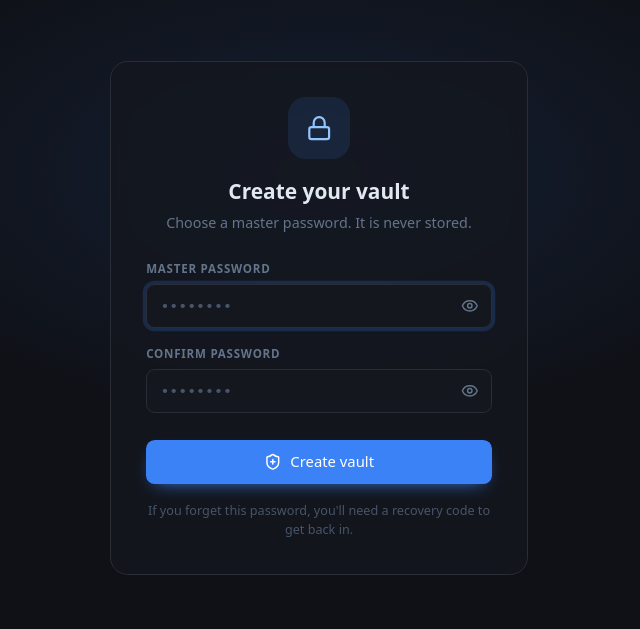
Test: UnlockScreen first-run › shows the create-vault form and validates password length
The width and height of the screenshot is (640, 629).
Expected: the heading "Create your vault" is shown, [228,176,410,208]
Type "short" into the 1st password field with placeholder "••••••••". click: [319, 306]
box: [146,284,492,328]
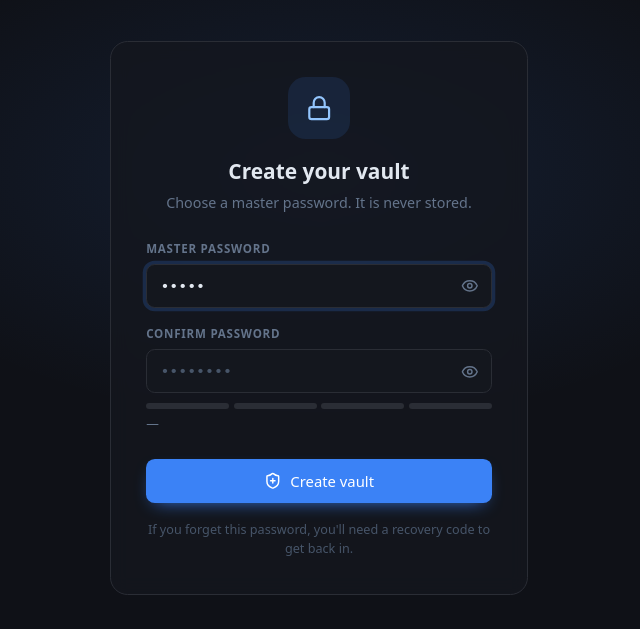
Type "short" into the password field with placeholder "••••••••". click: [319, 372]
box: [146,350,492,394]
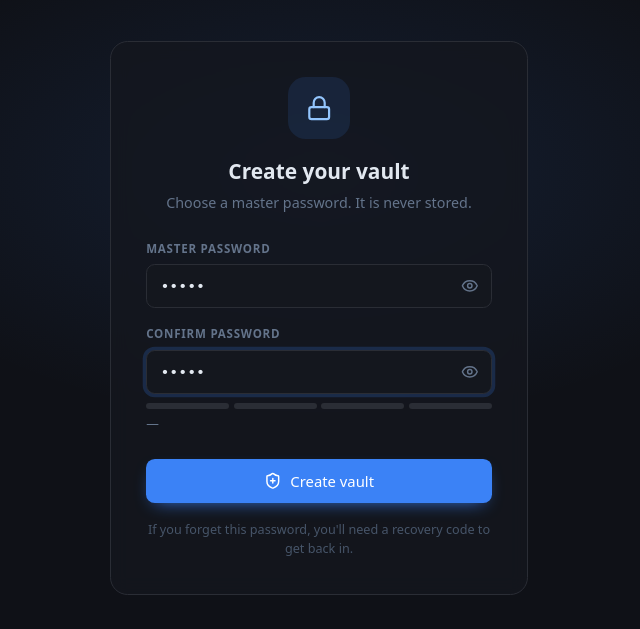
Click the button "Create vault". click: [319, 481]
box: [146,459,492,503]
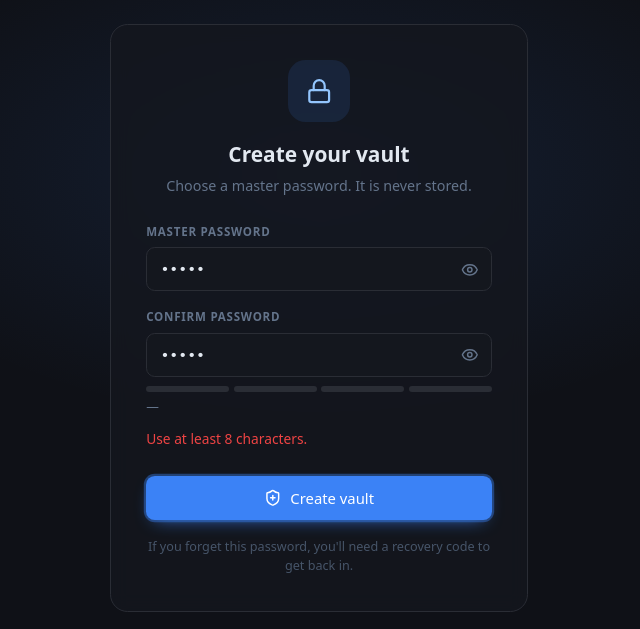
Expected: the message shows "at least 8", [146,429,307,448]
